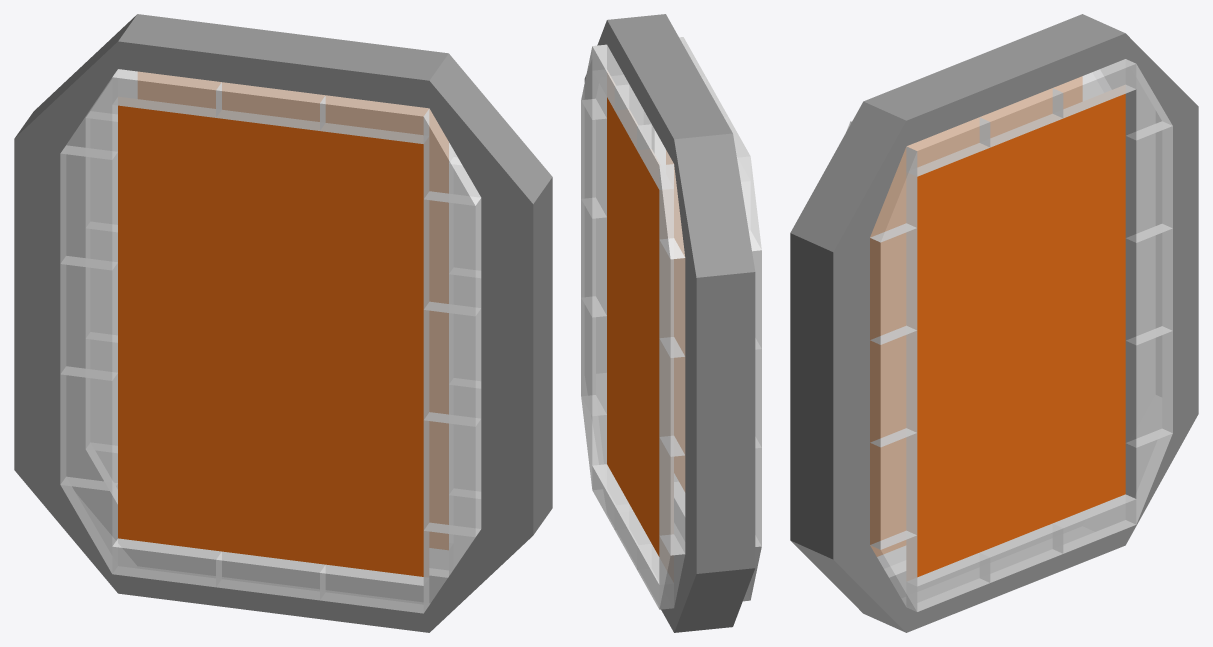
Rendered from coinOrange.fbx.
3 views of the same model, side by side, from view 1: azimuth 30°, elevation 25°; view 2: azimuth 150°, elevation 25°; view 3: azimuth 270°, elevation 25° (orthographic). The views are drawn at different scales.
Parts seen in each view (by area): view 1: Cube; view 2: Cube; view 3: Cube.
Part boxes in pixels (<box>): Cube: <box>14,14,552,632</box>; Cube: <box>581,14,761,632</box>; Cube: <box>790,14,1198,632</box>.
Bounding box in the file's own units: 62.19 × 90 × 65.03.
